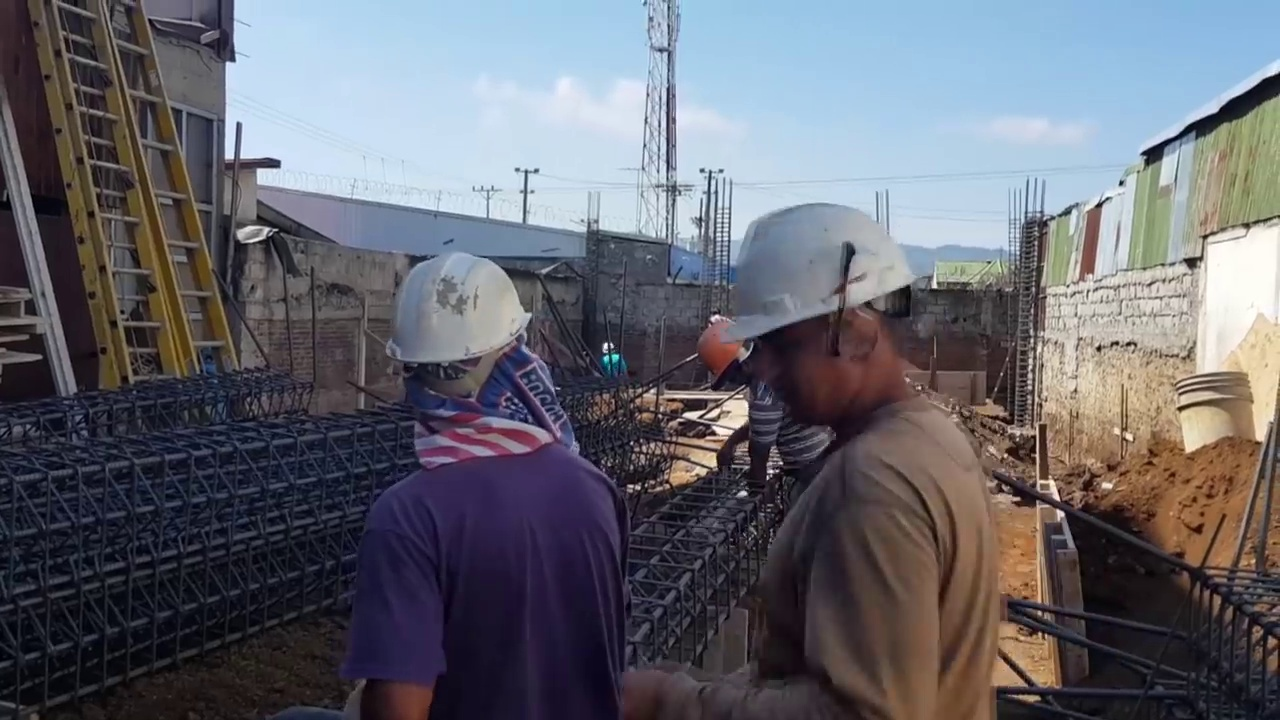helmet: (724, 203, 919, 347), (375, 252, 535, 370), (697, 318, 750, 388)
helmet-on: (724, 204, 919, 426), (374, 244, 538, 441), (697, 316, 763, 390), (603, 342, 614, 354)
person: (724, 204, 999, 717), (337, 249, 631, 720), (699, 315, 836, 501), (601, 341, 627, 379)
